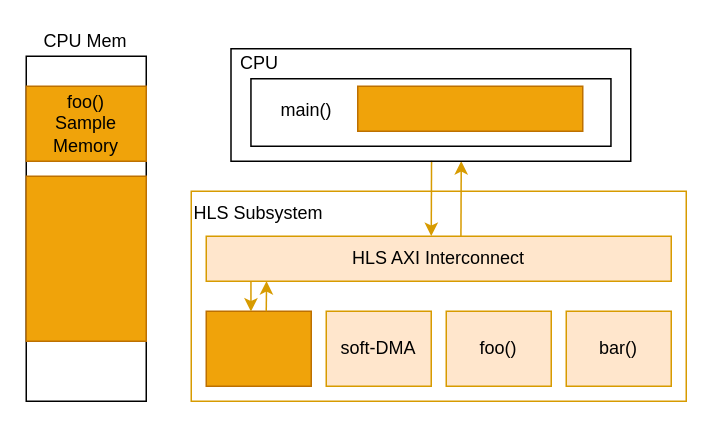
This 713x428 diagram has some shape labels left out. The centre of each missing label's shape, as x and y in pixels:
bar() Sample Memory: the point at 85,258
Instrumented SW Driver: the point at 469,108
soc cycle counter: the point at 258,348
